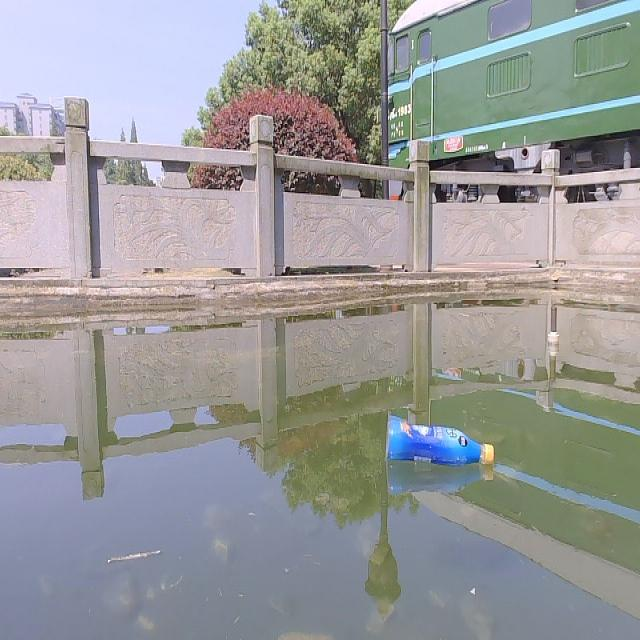Bottle: (378, 410, 495, 470)
